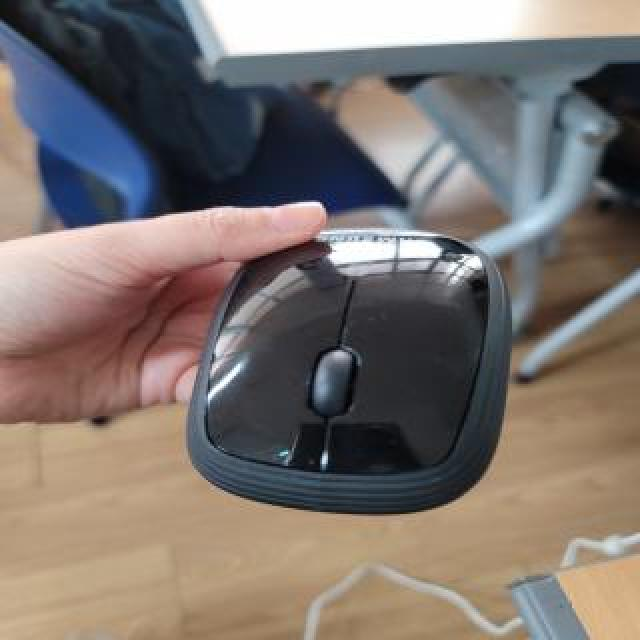mouse: (177, 184, 528, 564)
